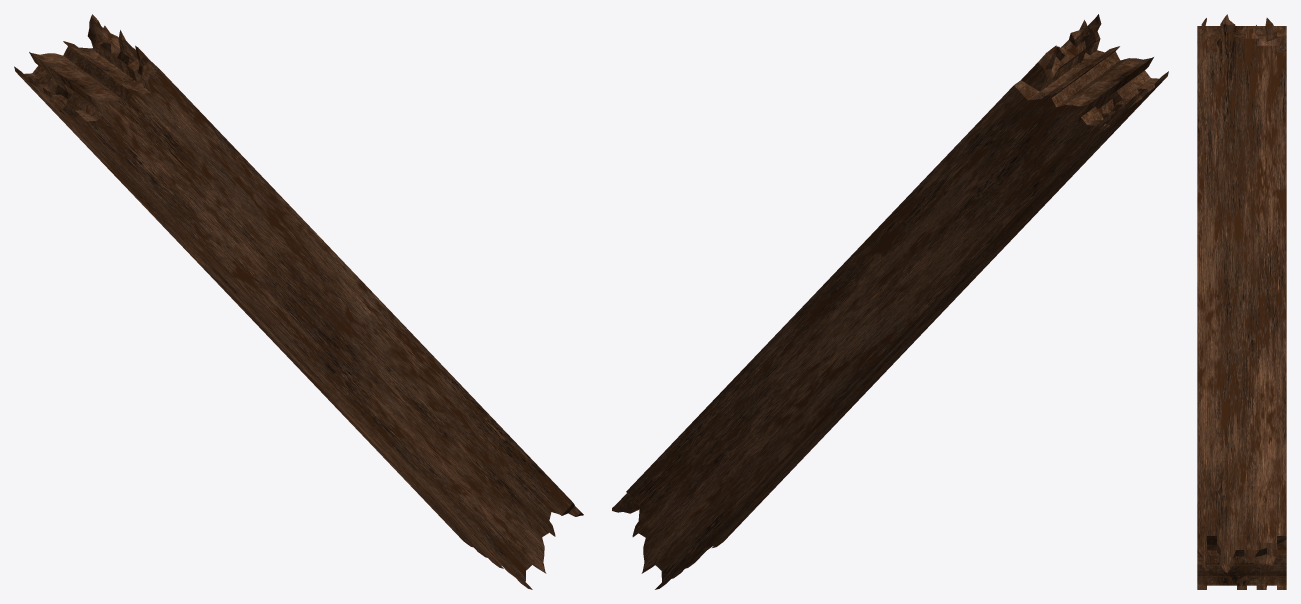
Rendered from MaderaRota_Diagonal.fbx.
The picture shows the model from 3 angles, left to right: view 1: azimuth 30°, elevation 25°; view 2: azimuth 150°, elevation 25°; view 3: azimuth 270°, elevation 25°; orthographic projection. The views are drawn at different scales.
Visible parts, largest first — view 1: Cube.016; view 2: Cube.016; view 3: Cube.016.
Part boxes in pixels (x1,y1,x2,y2): Cube.016: (14,14,583,589); Cube.016: (612,14,1168,589); Cube.016: (1197,14,1286,589).
Bounding box in the file's own units: 930 × 1100 × 201.
Materials: 1 (1 with a texture image).
